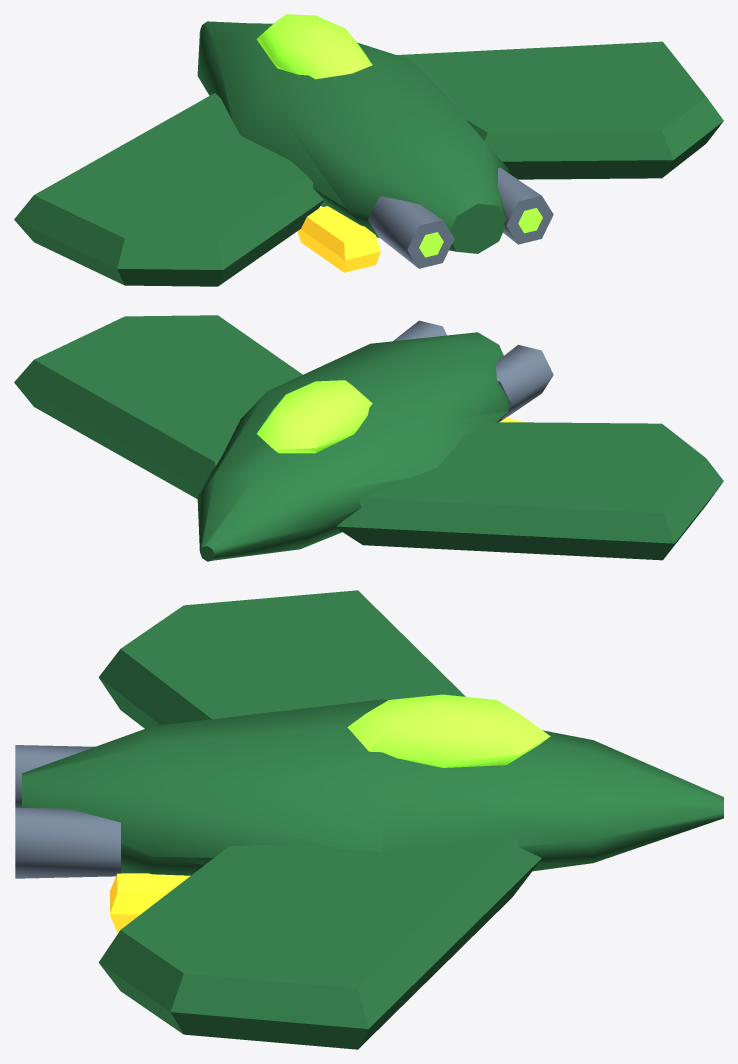
The model's file is bomber_enemy_mockup.glb.
The picture shows the model from 3 angles, top to bottom: view 1: azimuth 30°, elevation 25°; view 2: azimuth 150°, elevation 25°; view 3: azimuth 270°, elevation 25°; orthographic projection. The views are drawn at different scales.
Visible parts, largest first — view 1: BOMBER // MANTIS Mk II; view 2: BOMBER // MANTIS Mk II; view 3: BOMBER // MANTIS Mk II.
Part boxes in pixels (box(x1,y1,x2,y2)): BOMBER // MANTIS Mk II: box(14, 14, 723, 286); BOMBER // MANTIS Mk II: box(14, 315, 723, 561); BOMBER // MANTIS Mk II: box(15, 590, 723, 1049).
Bounding box in the file's own units: 4.4 × 0.82 × 3.16.
